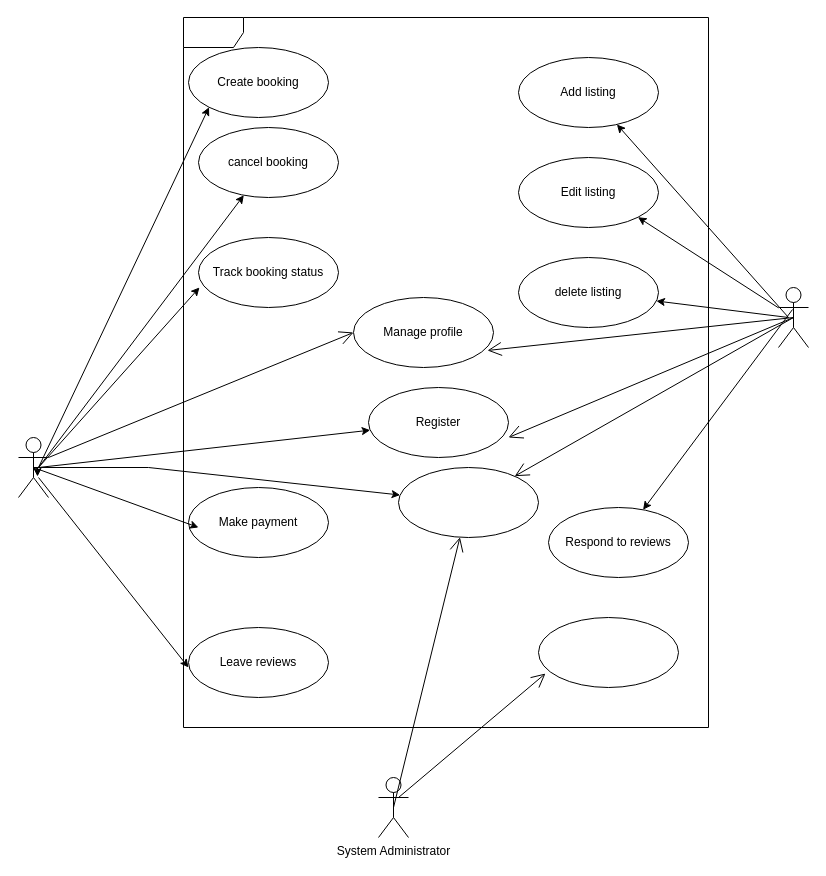
Image size: 826x876. Some labels were removed from this diagram. The box of each missing label's shape, as (x1, y1, x2, y2) in pixels:
Guest: (18, 436, 48, 498)
Host: (778, 286, 808, 348)
Login: (398, 466, 538, 538)
Manage Users: (538, 616, 678, 688)
System: (182, 16, 708, 728)
